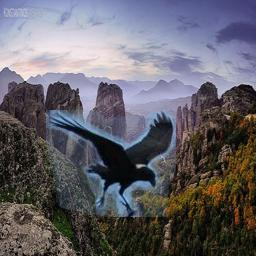Crow: (46, 110, 176, 217)
